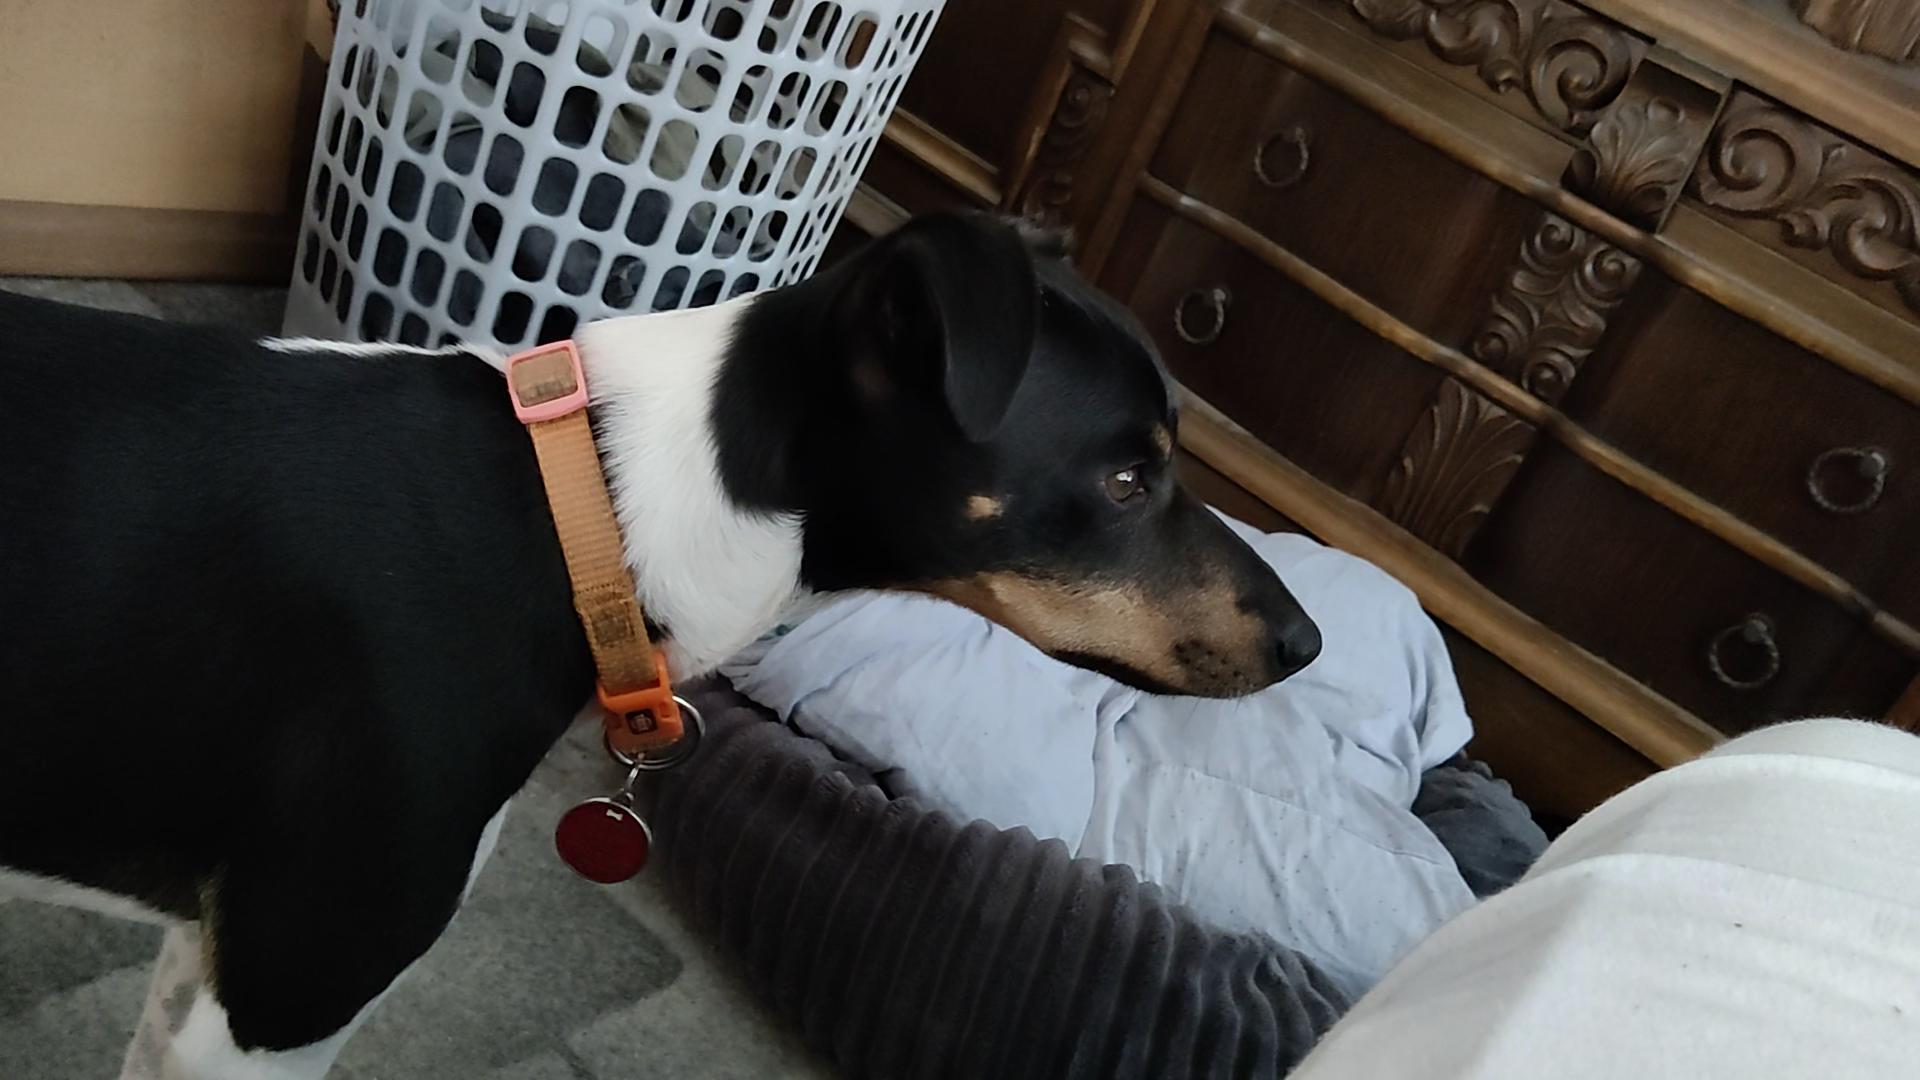Dog: (0, 194, 1335, 1079)
